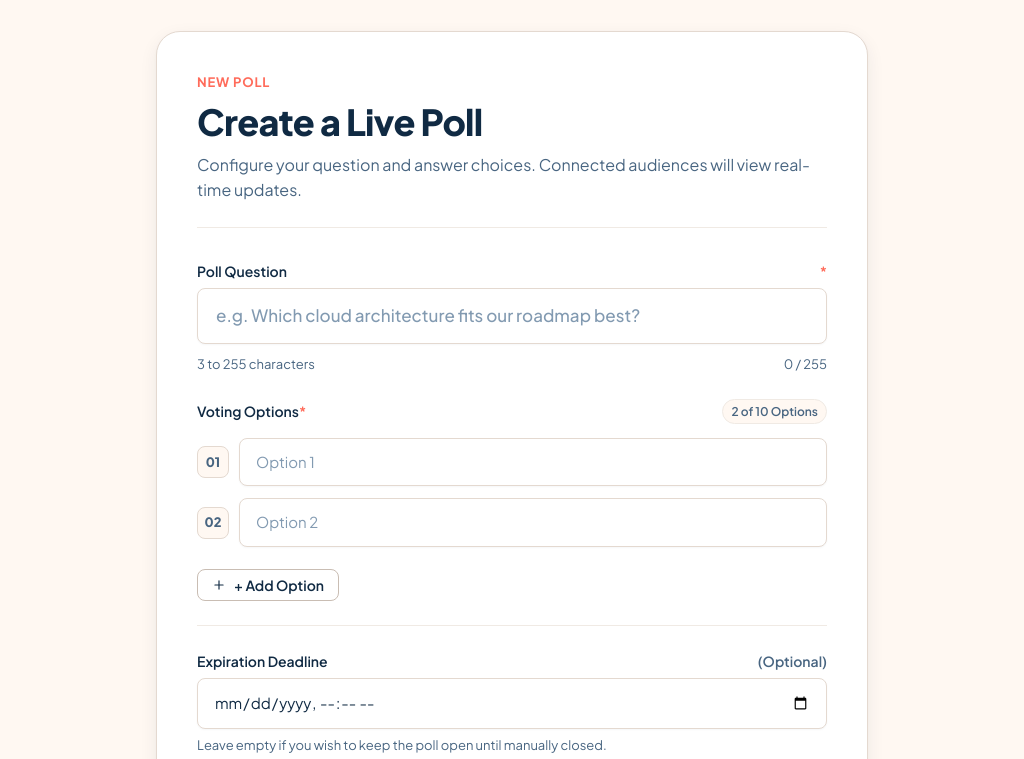
Test case: CreatePollPage Validation & Interactions › rejects questions that are too short
In the field labelled "Poll Question *": (512, 316) [197,288,827,344], type "Hi"
(page scrolled)
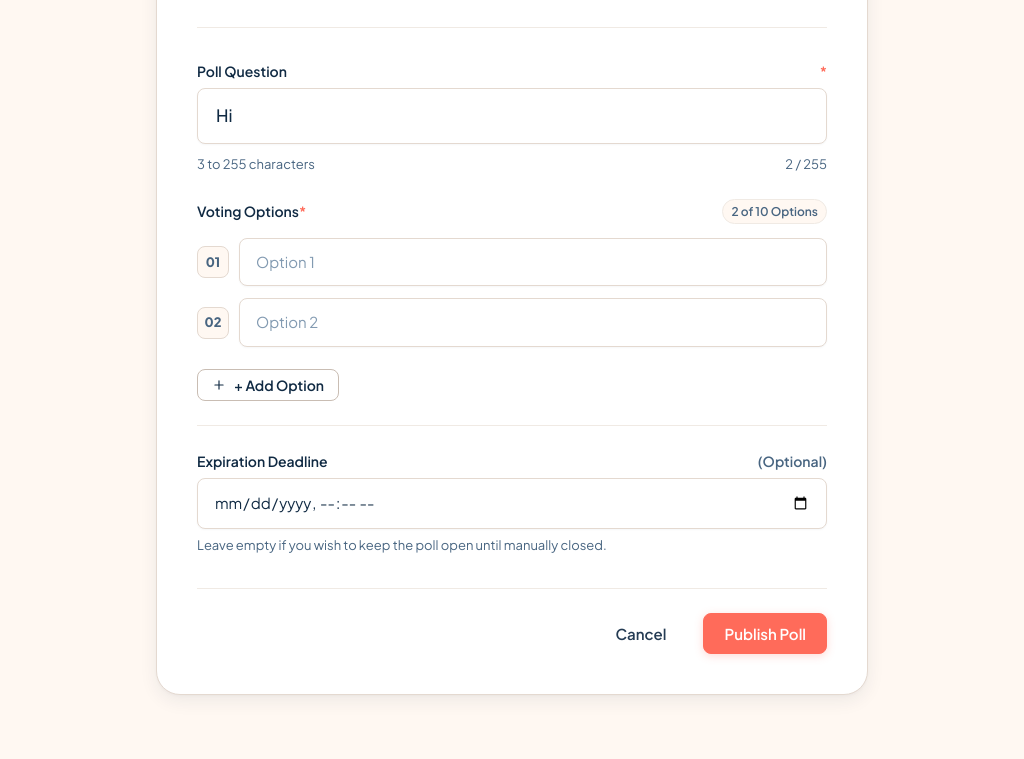
Click the button "Publish Poll": (765, 633) [704,613,827,654]
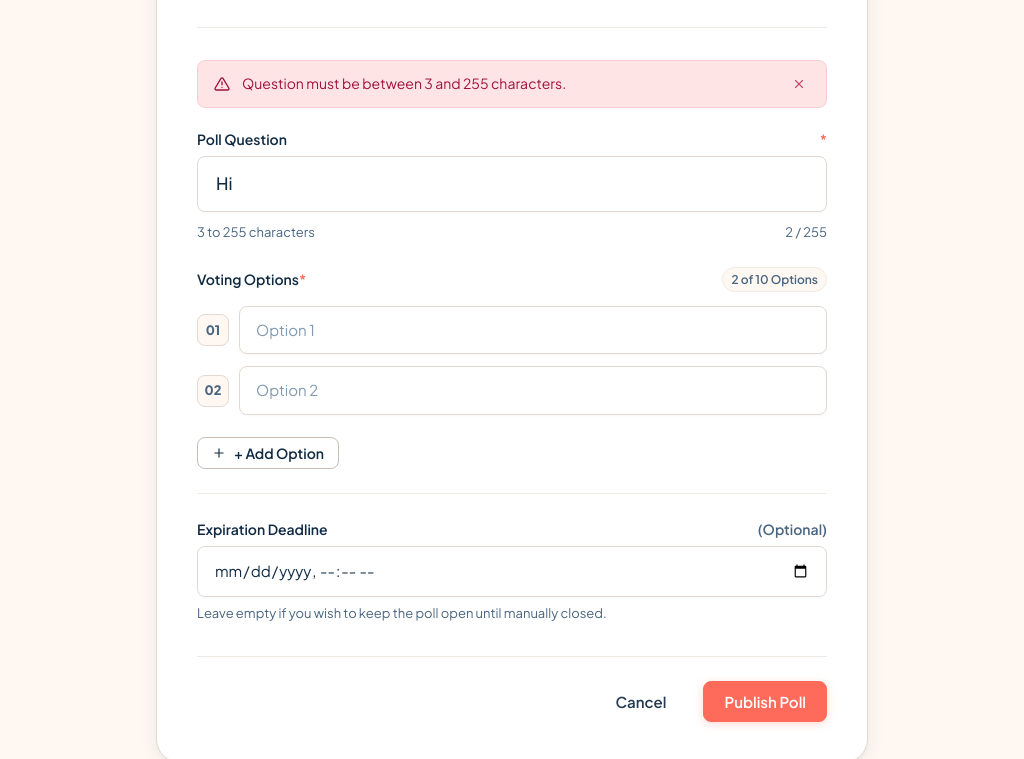
Expected: the text "Question must be between 3 and 255 characters." is shown, [242,74,566,92]
